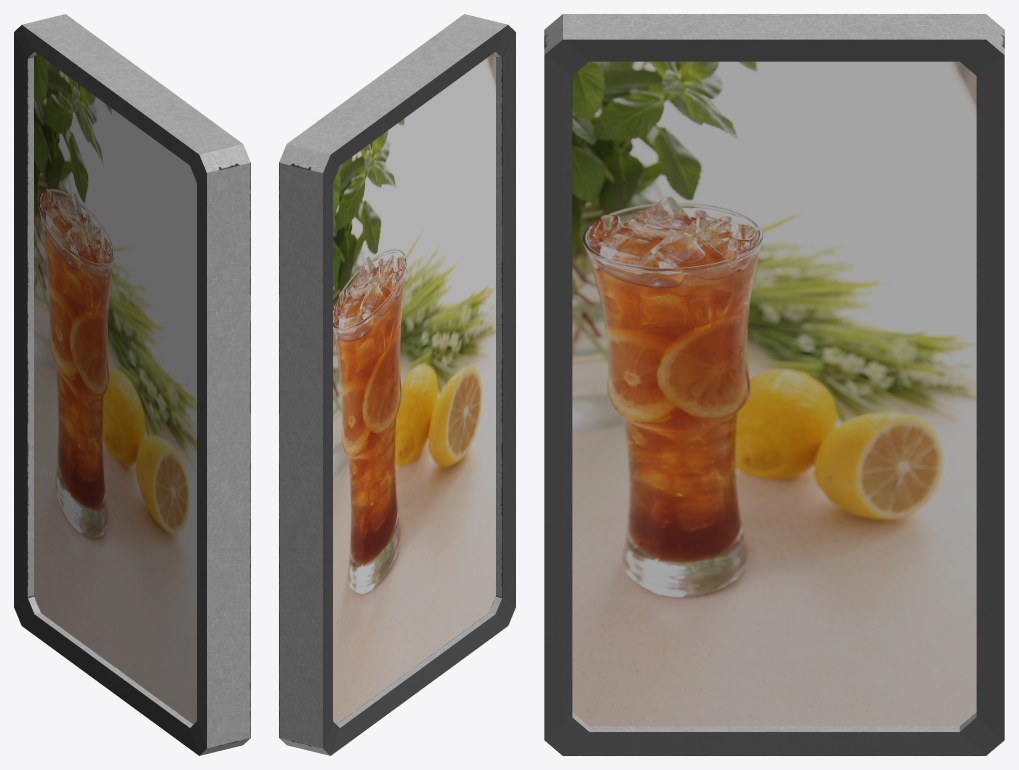
File: Panel010a.FBX
The picture shows the model from 3 angles, left to right: view 1: azimuth 30°, elevation 25°; view 2: azimuth 150°, elevation 25°; view 3: azimuth 270°, elevation 25°; orthographic projection. The views are drawn at different scales.
Visible parts, largest first — view 1: Panel010a; view 2: Panel010a; view 3: Panel010a.
Boxes of the visible parts, x1,y1,x2,y2 form: Panel010a: (14,14,250,755); Panel010a: (279,14,515,755); Panel010a: (544,14,1004,755).
Bounding box in the file's own units: 138 × 1803 × 1049.
